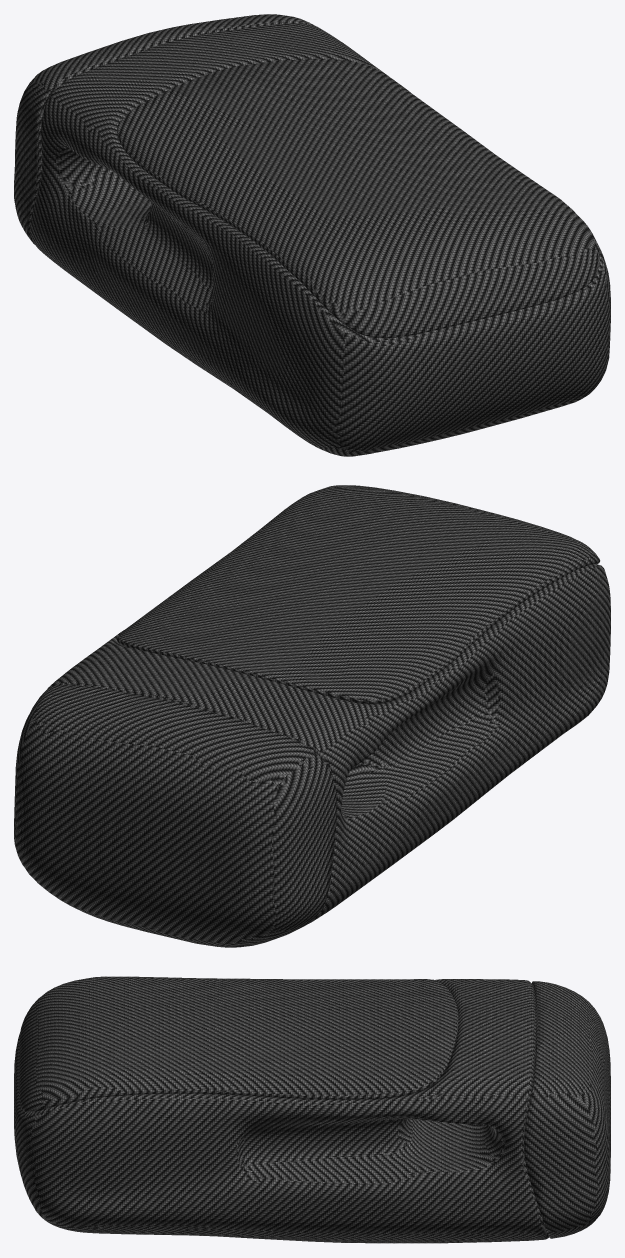
Rendered from Body_lowPoly.dae.
The picture shows the model from 3 angles, top to bottom: view 1: azimuth 30°, elevation 25°; view 2: azimuth 150°, elevation 25°; view 3: azimuth 270°, elevation 25°; orthographic projection. The views are drawn at different scales.
Visible parts, largest first — view 1: Model; view 2: Model; view 3: Model.
Part boxes in pixels (bbox=[...]): Model: bbox=[14, 14, 610, 456]; Model: bbox=[14, 485, 610, 947]; Model: bbox=[14, 976, 610, 1243].
Bounding box in the file's own units: 0.2382 × 0.4612 × 0.1801.
1 material, 1 textured.
